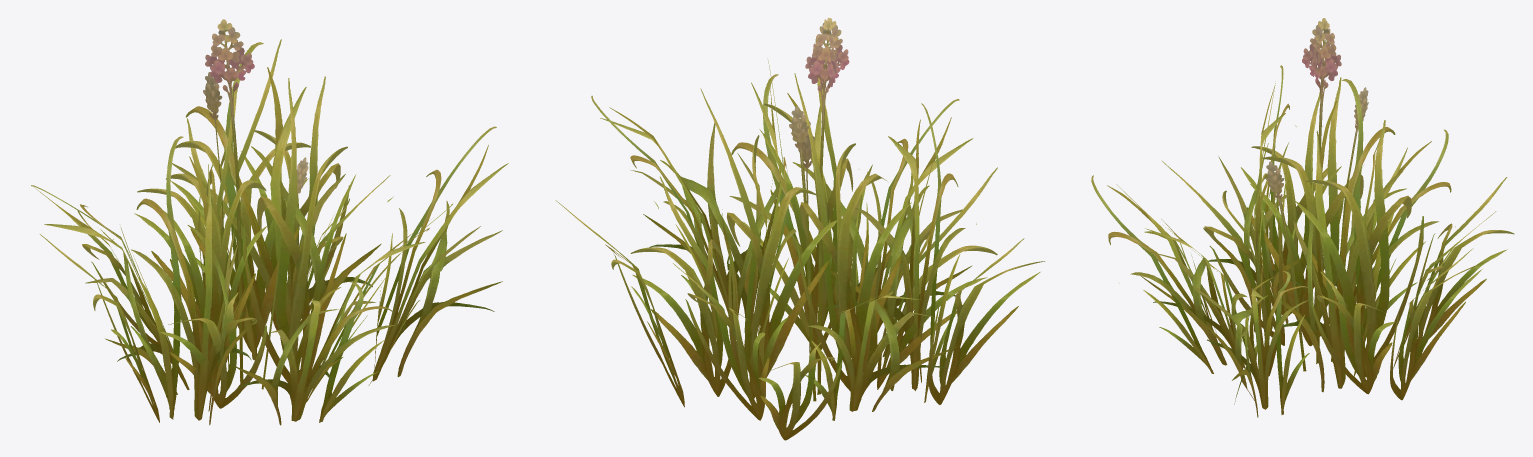
3 views of the same model, side by side, from view 1: azimuth 30°, elevation 25°; view 2: azimuth 150°, elevation 25°; view 3: azimuth 270°, elevation 25° (orthographic). The views are drawn at different scales.
Size of the model in its own units: 4.21 by 3.3 by 3.78.
Materials: 1 (1 with a texture image).
